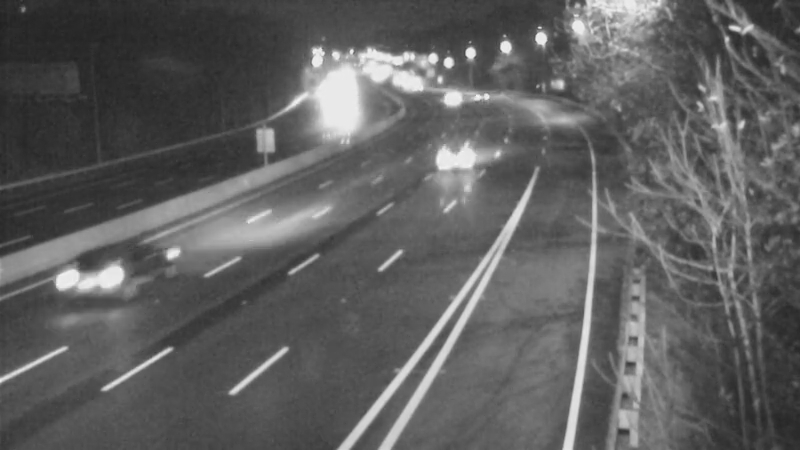vehicle: (54, 225, 134, 305), (424, 65, 474, 115), (453, 64, 503, 114), (424, 121, 474, 171)
